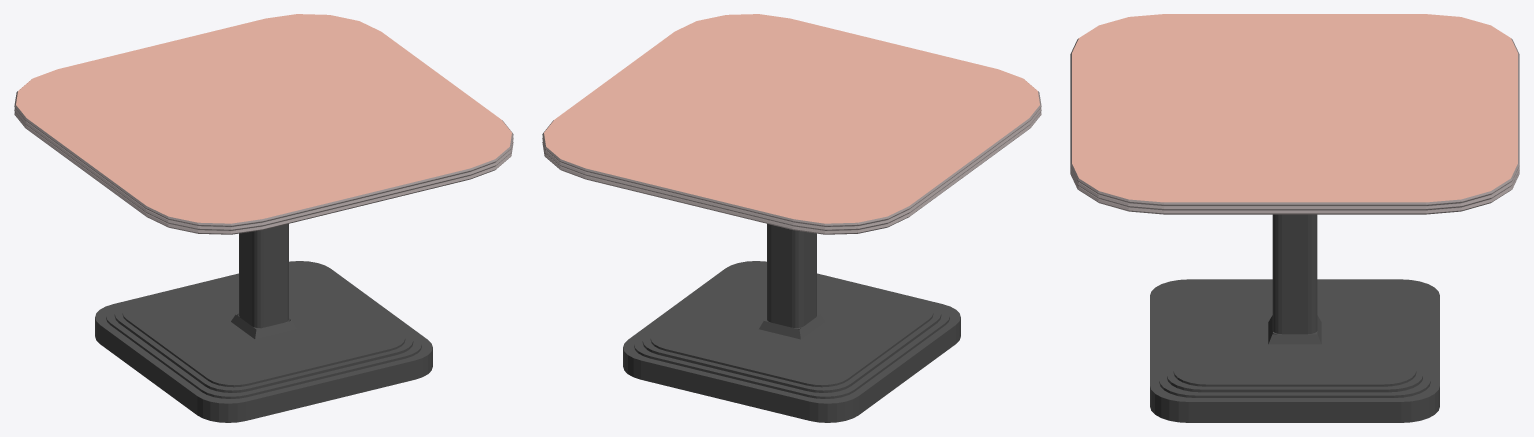
File: Dinner_Table.fbx
3 views of the same model, side by side, from view 1: azimuth 30°, elevation 25°; view 2: azimuth 150°, elevation 25°; view 3: azimuth 270°, elevation 25° (orthographic). The views are drawn at different scales.
Parts seen in each view (by area): view 1: Diner_Table; view 2: Diner_Table; view 3: Diner_Table.
Part boxes in pixels (left/top/right/bottom): Diner_Table: left=14, top=14, right=513, bottom=422; Diner_Table: left=542, top=14, right=1041, bottom=422; Diner_Table: left=1070, top=14, right=1519, bottom=422.
Bounding box in the file's own units: 1.87 × 1.16 × 1.87.
